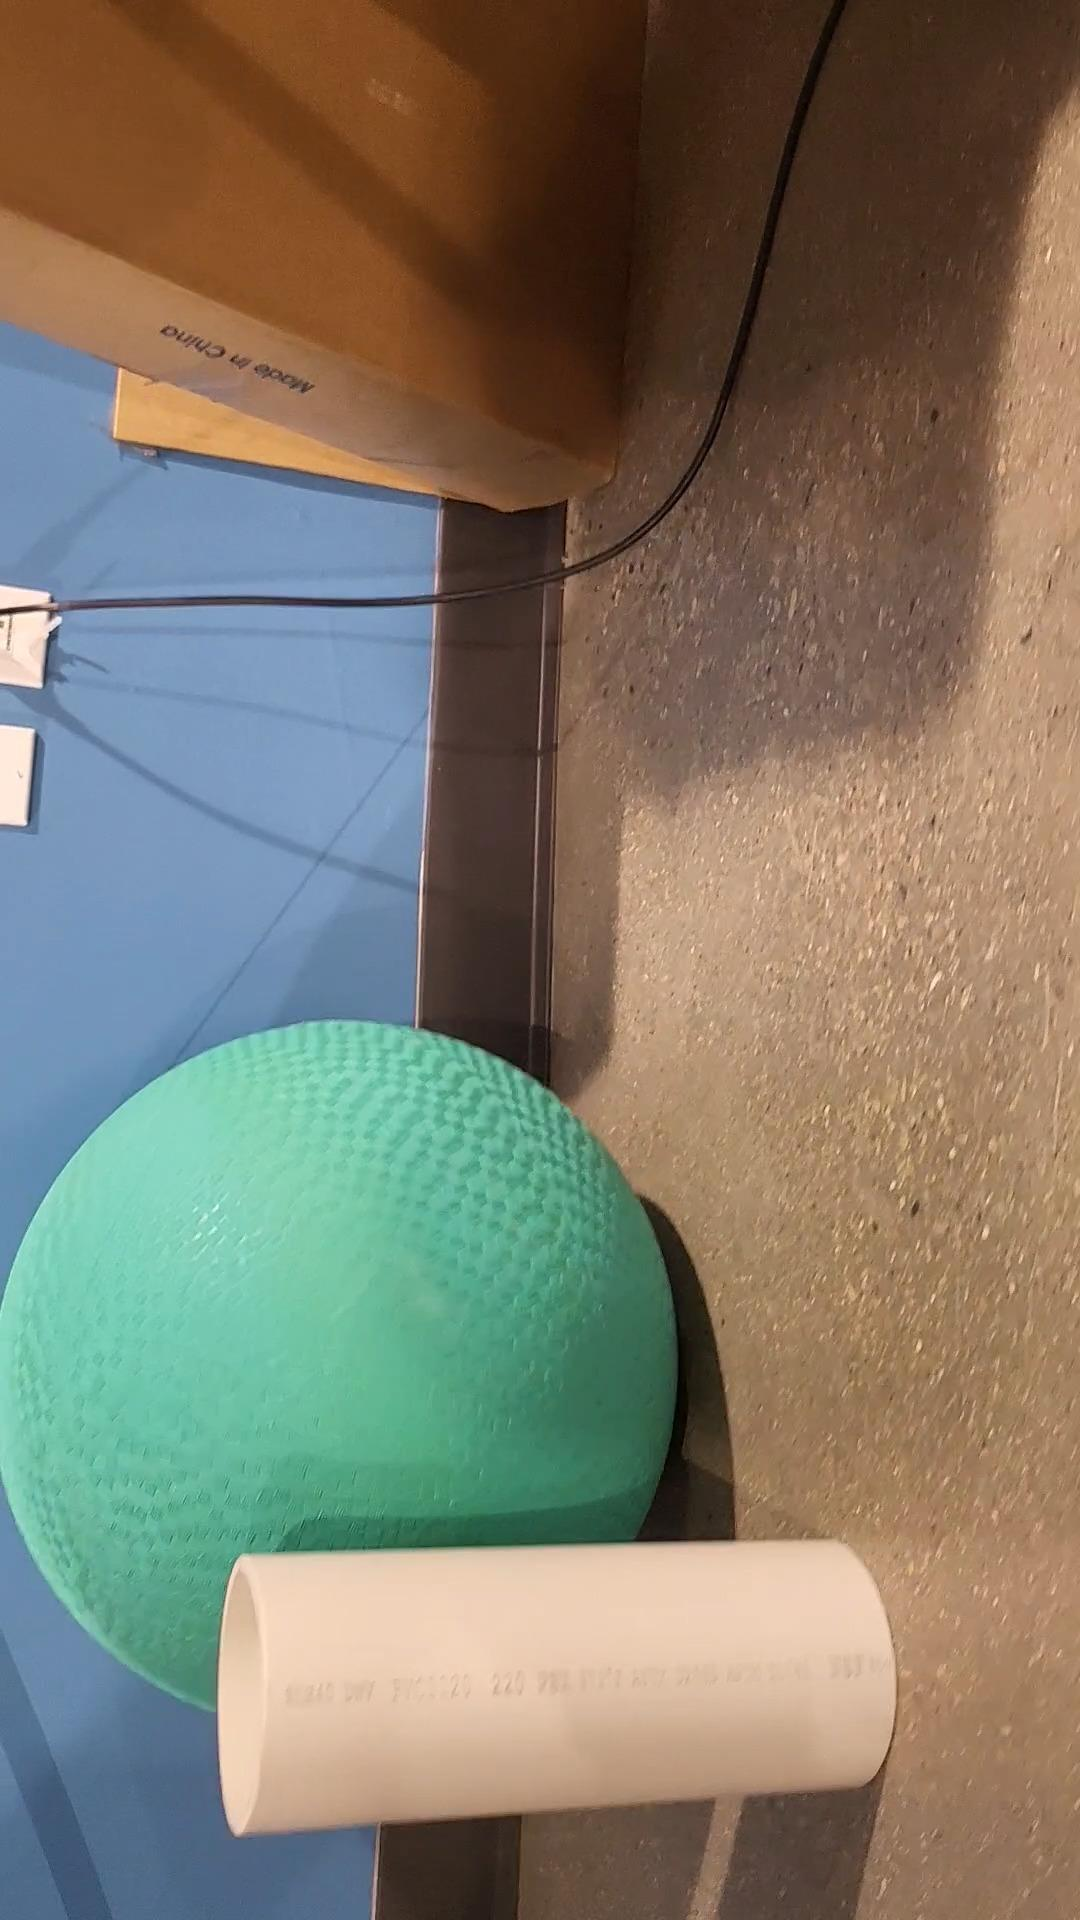algae: (0, 1022, 683, 1717)
coral: (220, 1538, 899, 1833)
